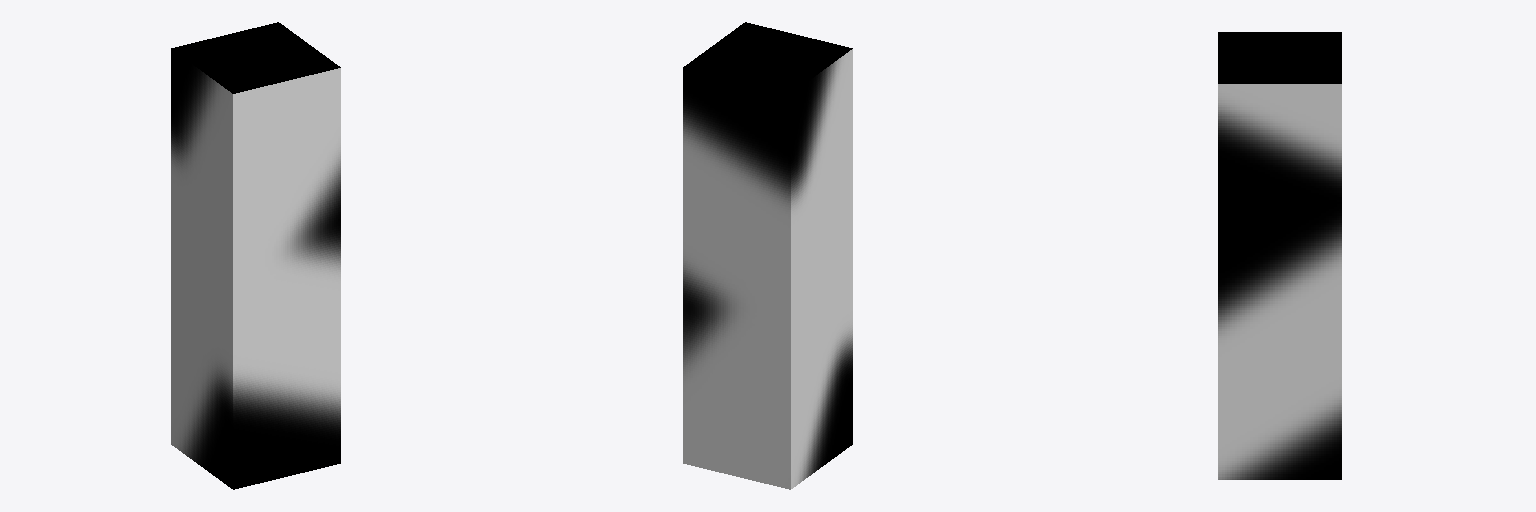
3 renders of one model, left to right at view 1: azimuth 30°, elevation 25°; view 2: azimuth 150°, elevation 25°; view 3: azimuth 270°, elevation 25°, orthographic.
Visible parts, largest first — view 1: 右太もも; view 2: 右太もも; view 3: 右太もも.
Part boxes in pixels (left/top/right/bottom): 右太もも: left=171, top=22, right=340, bottom=489; 右太もも: left=683, top=22, right=852, bottom=489; 右太もも: left=1218, top=32, right=1341, bottom=479.
Bounding box in the file's own units: 2 × 7 × 2.
1 materials, 1 textured.